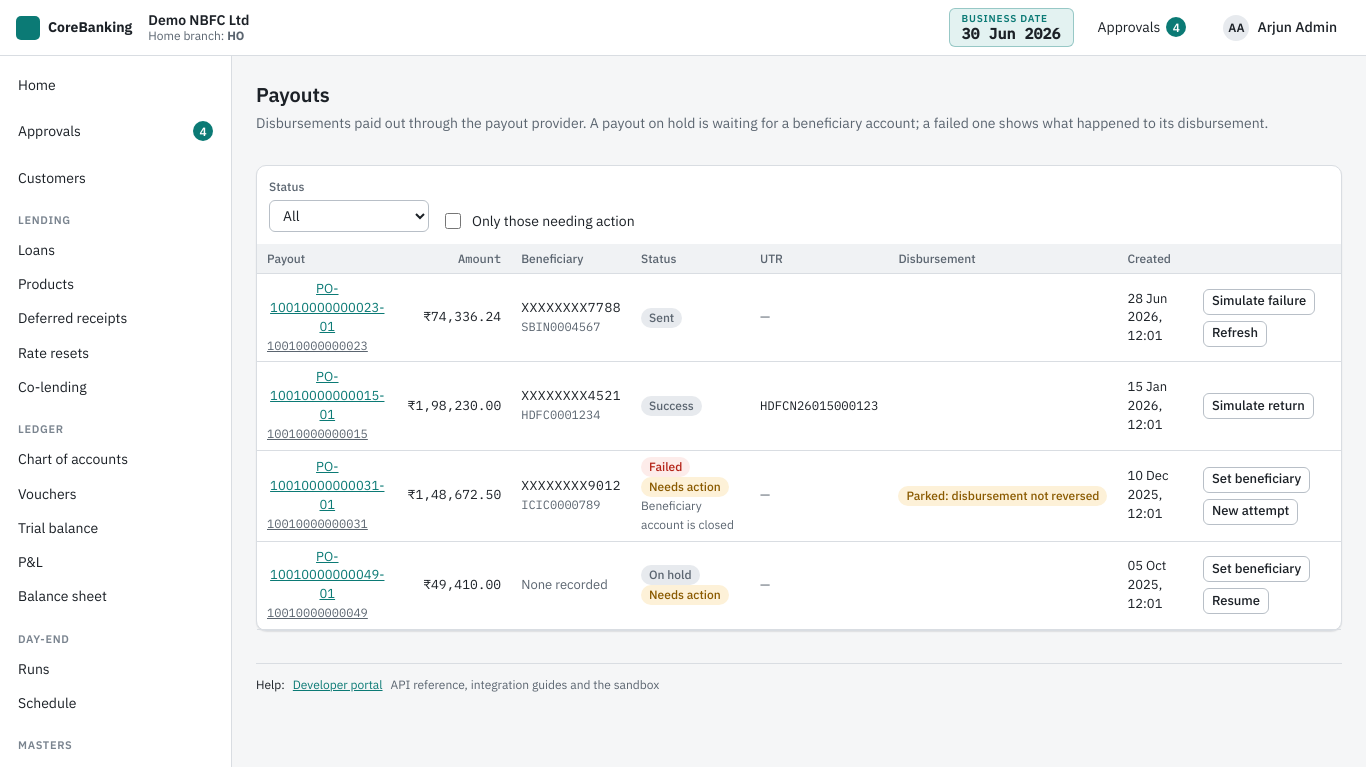
it: simulated payout outcome › fails a sent payout from the payouts page; the reversal is proposed for a checker
The image size is (1366, 767).
What coordinates should you click on to do the following:
click the button "Simulate failure"
I would click on:
 (1259, 302)
Its box is [1203,289,1315,315].
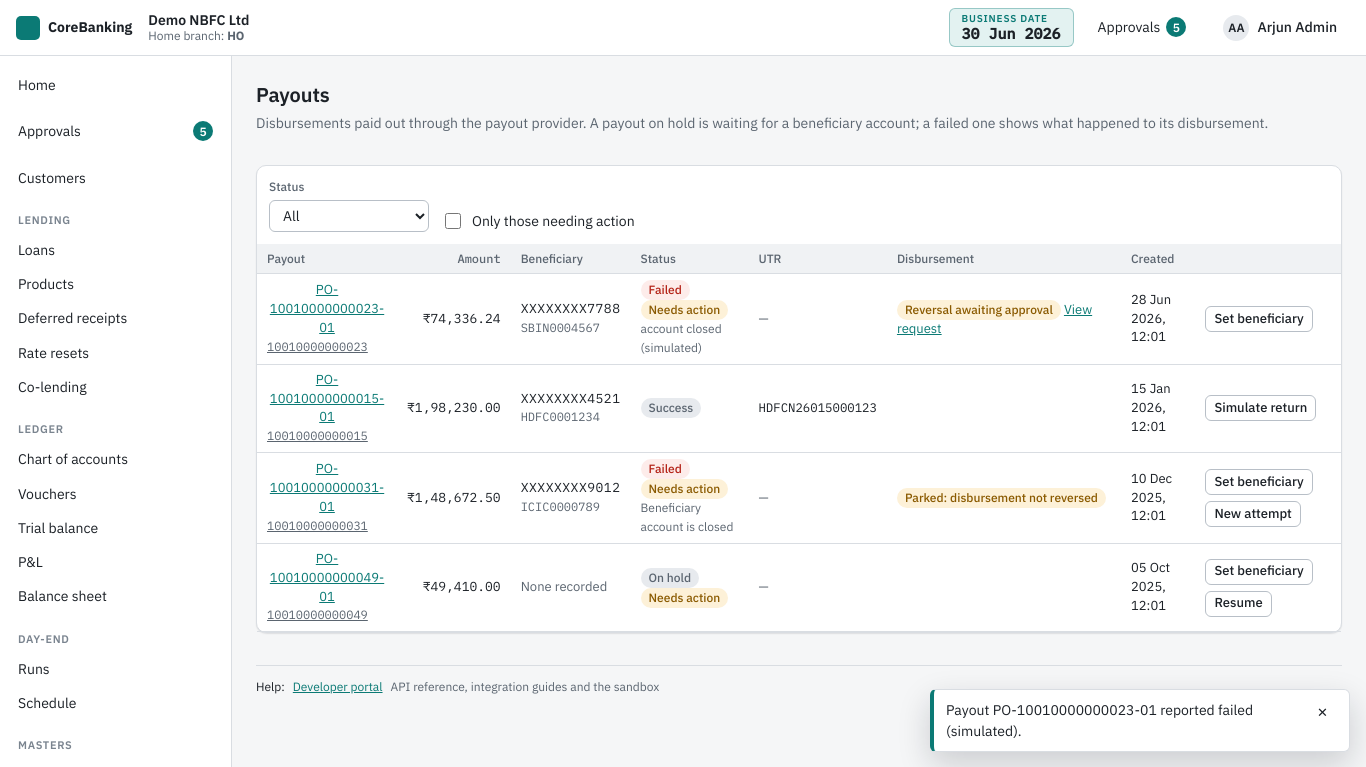
Result: the text "account closed (simulated)" is shown at [640,321,722,355]
